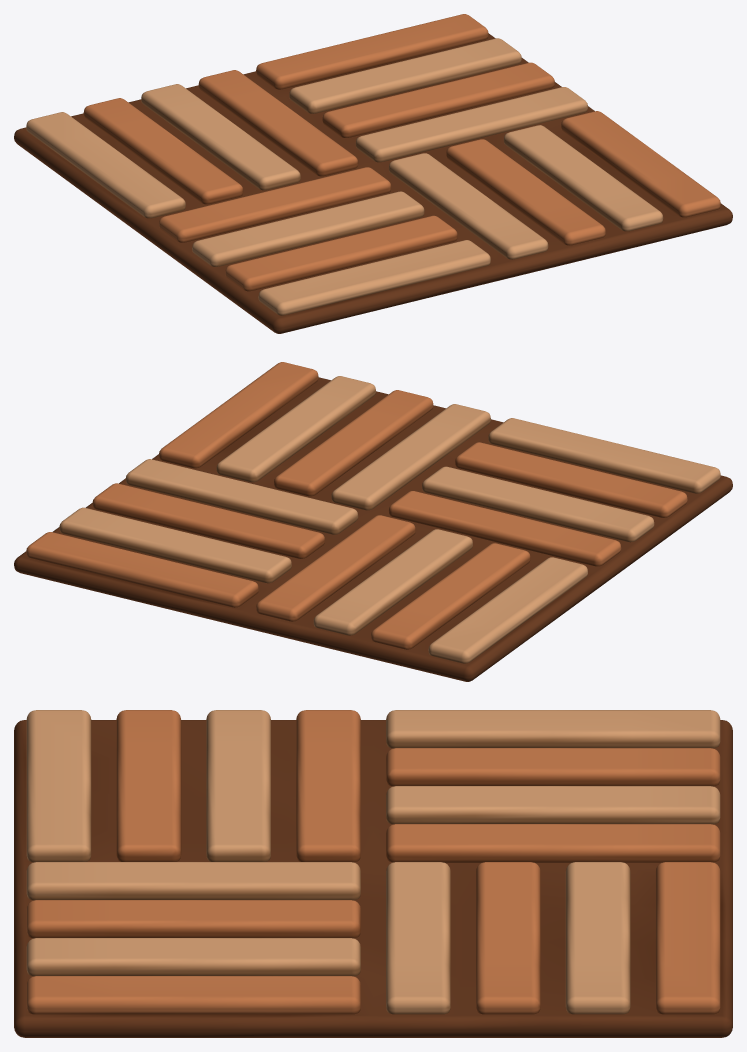
File: tile_boardwalk_cross.glb
3 views of the same model, one above another, from view 1: azimuth 30°, elevation 25°; view 2: azimuth 150°, elevation 25°; view 3: azimuth 270°, elevation 25° (orthographic). The views are drawn at different scales.
Visible parts, largest first — view 1: f_frame, q11_3, q-1-1_2, q11_2, q-1-1_3, q11_1, q-1-1_0, q11_0, q-1-1_1, q1-1_1, q-11_2, q1-1_0 (+5 smaller); view 2: f_frame, q-1-1_2, q-1-1_3, q11_2, q11_3, q11_0, q-1-1_0, q-1-1_1, q11_1, q1-1_0, q-11_0, q-11_1 (+5 smaller); view 3: f_frame, q1-1_3, q-11_0, q-11_3, q-11_2, q-11_1, q1-1_0, q1-1_1, q1-1_2, q11_3, q11_2, q-1-1_3 (+5 smaller).
Boxes of the visible parts, box(x1,y1,x2,y2) form: f_frame: box(14, 33, 732, 333); q11_3: box(256, 14, 488, 89); q-1-1_2: box(225, 215, 457, 291); q11_2: box(289, 38, 521, 113); q-1-1_3: box(258, 240, 490, 315); q11_1: box(322, 62, 554, 137); q-1-1_0: box(159, 167, 391, 242); q11_0: box(355, 87, 587, 162); q-1-1_1: box(192, 191, 424, 266); q1-1_1: box(446, 139, 605, 245); q-11_2: box(83, 98, 243, 204); q1-1_0: box(388, 153, 548, 259); f_frame: box(14, 377, 732, 681); q-1-1_2: box(455, 442, 687, 517); q-1-1_3: box(488, 418, 720, 493); q11_2: box(59, 507, 291, 583); q11_3: box(26, 532, 258, 607); q11_0: box(125, 459, 358, 534); q-1-1_0: box(388, 491, 621, 566); q-1-1_1: box(422, 466, 654, 542); q11_1: box(92, 483, 324, 558); q1-1_0: box(331, 404, 490, 510); q-11_0: box(256, 515, 415, 621); q-11_1: box(313, 529, 472, 635); f_frame: box(14, 720, 732, 1037); q1-1_3: box(26, 976, 360, 1014); q-11_0: box(386, 824, 720, 862); q-11_3: box(386, 710, 720, 748); q-11_2: box(386, 748, 720, 786); q-11_1: box(386, 786, 720, 824); q1-1_0: box(26, 862, 360, 900); q1-1_1: box(26, 900, 360, 938); q1-1_2: box(26, 938, 360, 976); q11_3: box(655, 862, 720, 1014); q11_2: box(565, 862, 630, 1014); q-1-1_3: box(26, 710, 91, 862).
Bounding box in the file's own units: 4 × 0.22 × 4.
